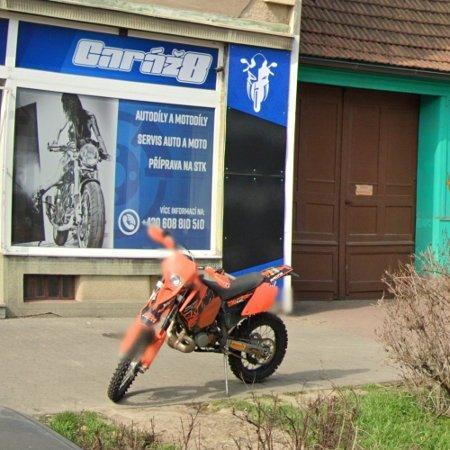motorcycles: (108, 226, 292, 402)
